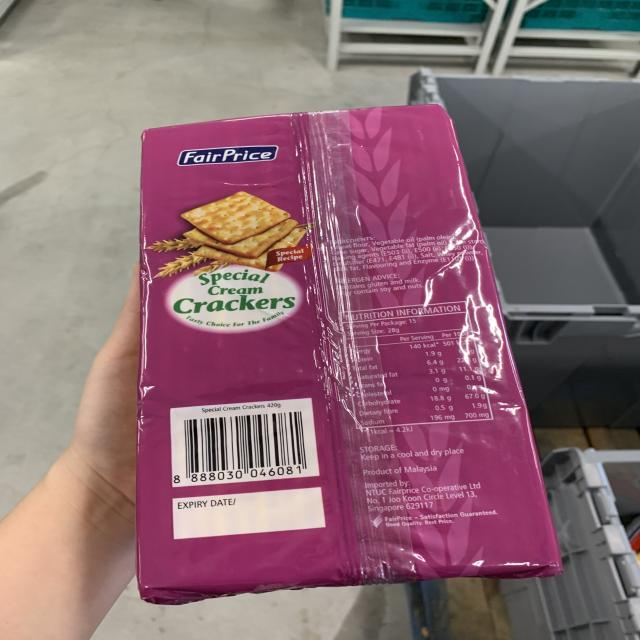object_name: (126, 115, 545, 576)
